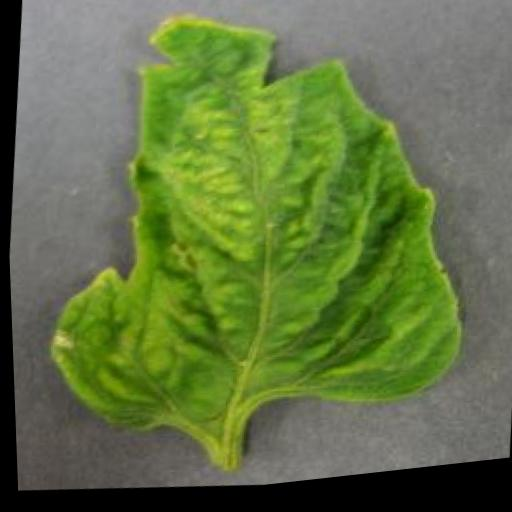Yellow Leaf Curl Virus: (29, 0, 489, 473)
